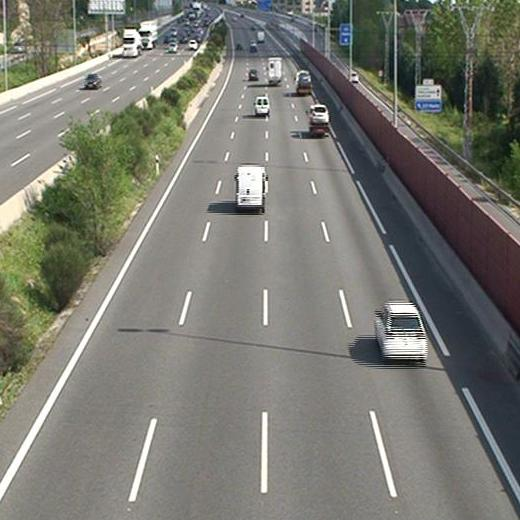car: (373, 302, 427, 361), (311, 105, 328, 124), (248, 69, 258, 80), (299, 74, 309, 85)
small-truck: (307, 103, 329, 136), (294, 69, 314, 95), (268, 58, 281, 86)
van: (234, 166, 267, 211), (254, 95, 272, 116)
